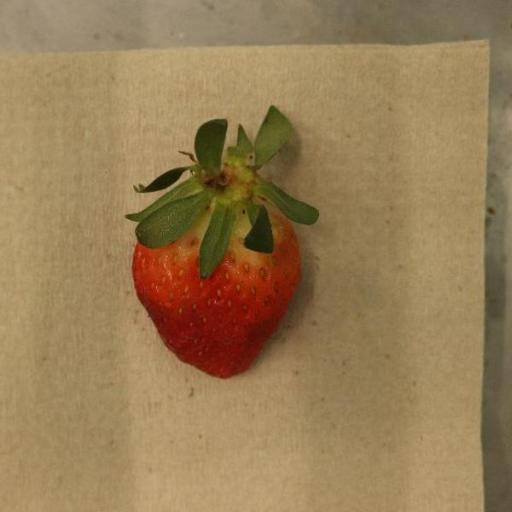Strawberry: (125, 106, 319, 380)
